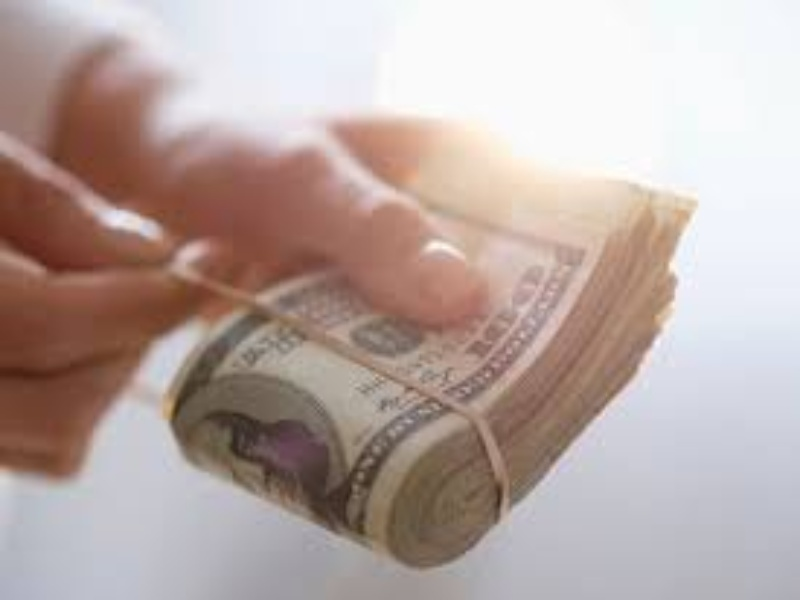cash: (162, 132, 700, 572)
